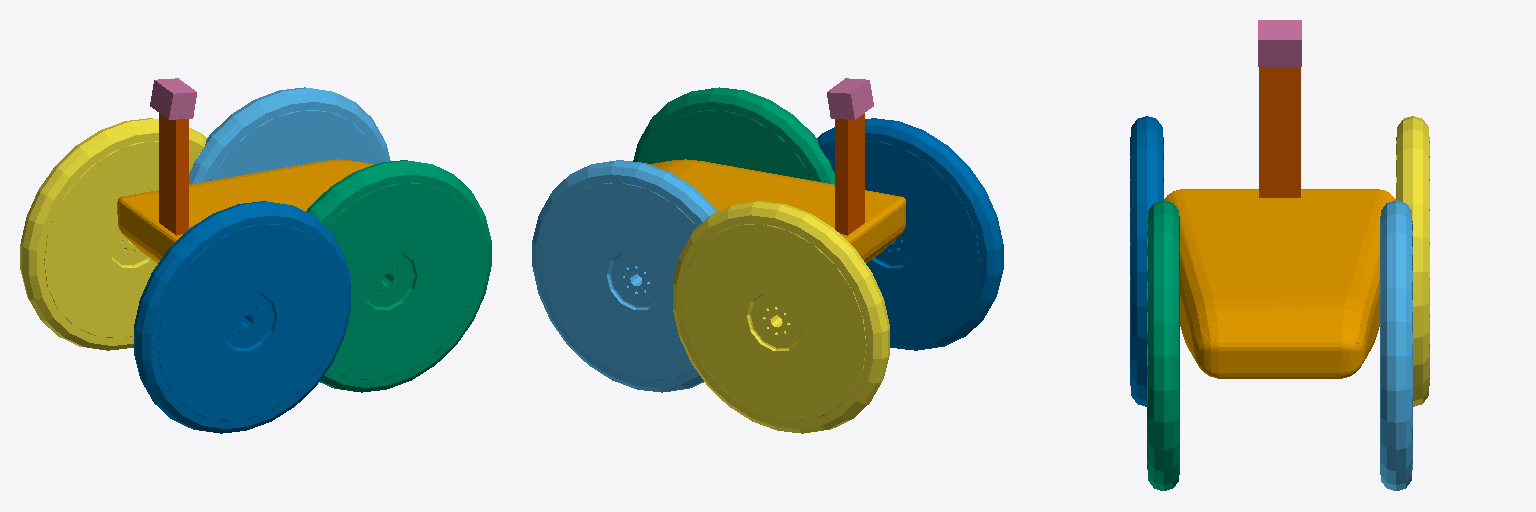
URDF robot description (DriveBot):
<?xml version="1.0"?>
<robot name="DriveBot">

  <link name="chassis">
    <visual>
      <geometry>
        <mesh filename="package://drivebot_description/urdf/Chassis.stl"/>
      </geometry>
      <origin rpy="1.5708 0 0" xyz="-0.3 0.25 0.1"/>
    </visual>
    <collision>
      <geometry>
        <mesh filename="package://drivebot_description/urdf/Chassis.stl"/>
      </geometry>
      <origin rpy="1.5708 0 0" xyz="-0.3 0.25 0.1"/>
    </collision>
    <inertial>
      <mass value="2"/>
      <inertia ixx="0.07552" ixy="0.0" ixz="0.0" iyy="0.23177" iyz="0.0" izz="0.17708"/>
      <origin rpy="1.5708 0 0" xyz="0.2 0 0"/>
    </inertial>
  </link>

  <link name="front_left">
    <visual>
      <geometry>
        <mesh filename="package://drivebot_description/urdf/RearTire.stl"/>
      </geometry>
      <origin rpy="1.5708 0 0" xyz="0 0.15 0"/>
    </visual>
    <collision>
      <geometry>
        <cylinder length="0.05" radius="0.17"/>
      </geometry>
      <origin rpy="1.5708 0 0" xyz="0 0.15 0"/>
    </collision>
    <inertial>
      <mass value="0.25"/>
      <inertia ixx="0.000602" ixy="0.0" ixz="0.0" iyy="0.001858" iyz="0.0" izz="0.001858"/>
      <origin rpy="0 0 0" xyz="0.0 0.15 0.0"/>
    </inertial>
  </link>

  <joint name="front_left_to_chassis" type="continuous">
    <axis rpy="0 0 0" xyz="0 1 0"/>
    <parent link="chassis"/>
    <child link="front_left"/>
    <origin xyz="0.4 0.2 -0.1"/>
    <limit effort="1000" velocity="1000"/>
    <dynamics damping="0.1"/>
  </joint>

  <link name="front_right">
    <visual>
      <geometry>
        <mesh filename="package://drivebot_description/urdf/RearTire.stl"/>
      </geometry>
      <origin rpy="1.5708 0 0" xyz="0 -0.15 0"/>
    </visual>
    <collision>
      <geometry>
        <cylinder length="0.05" radius="0.17"/>
      </geometry>
      <origin rpy="1.5708 0 0" xyz="0 -0.15 0"/>
    </collision>
    <inertial>
      <mass value="0.25"/>
      <inertia ixx="0.000602" ixy="0.0" ixz="0.0" iyy="0.001858" iyz="0.0" izz="0.001858"/>
      <origin rpy="0 0 0" xyz="0 -0.15 0"/>
    </inertial>
  </link>

  <joint name="front_right_to_chassis" type="continuous">
    <axis rpy="0 0 0" xyz="0 1 0"/>
    <parent link="chassis"/>
    <child link="front_right"/>
    <origin xyz="0.4 -0.2 -0.1"/>
    <limit effort="1000" velocity="1000"/>
    <dynamics damping="0.1"/>
  </joint>

  <link name="rear_left">
    <visual>
      <geometry>
        <mesh filename="package://drivebot_description/urdf/RearTire.stl"/>
      </geometry>
      <origin rpy="1.5708 0 0" xyz="0 0.05 0"/>
    </visual>
    <collision>
      <geometry>
        <cylinder length="0.05" radius="0.17"/>
      </geometry>
      <origin rpy="1.5708 0 0" xyz="0 0.05 0"/>
    </collision>
    <inertial>
      <mass value="0.25"/>
      <inertia ixx="0.000602" ixy="0.0" ixz="0.0" iyy="0.001858" iyz="0.0" izz="0.001858"/>
      <origin rpy="0 0 0" xyz="0 0.05 0"/>
    </inertial>
  </link>

  <joint name="rear_left_to_chassis" type="continuous">
    <axis rpy="0 0 0" xyz="0 1 0"/>
    <parent link="chassis"/>
    <child link="rear_left"/>
    <origin xyz="-0.2 0.35 -0.1"/>
    <limit effort="1000" velocity="1000"/>
    <dynamics damping="0.1"/>
  </joint>

  <link name="rear_right">
    <visual>
      <geometry>
        <mesh filename="package://drivebot_description/urdf/RearTire.stl"/>
      </geometry>
      <origin rpy="1.5708 0 0" xyz="0 -0.05 0"/>
    </visual>
    <collision>
      <geometry>
        <cylinder length="0.05" radius="0.17"/>
      </geometry>
      <origin rpy="1.5708 0 0" xyz="0 -0.05 0"/>
    </collision>
    <inertial>
      <mass value="0.25"/>
      <inertia ixx="0.000602" ixy="0.0" ixz="0.0" iyy="0.001858" iyz="0.0" izz="0.001858"/>
      <origin rpy="0 0 0" xyz="0 -0.05 0"/>
    </inertial>
  </link>

  <joint name="rear_right_to_chassis" type="continuous">
    <axis rpy="0 0 0" xyz="0 1 0"/>
    <parent link="chassis"/>
    <child link="rear_right"/>
    <origin xyz="-0.2 -0.35 -0.1"/>
    <limit effort="1000" velocity="1000"/>
    <dynamics damping="0.1"/>
  </joint>

  <link name="boom">
    <visual>
      <geometry>
        <box size="0.05 0.125 0.5"/>
      </geometry>
      <origin xyz="0 0 0.25"/>
    </visual>
    <collision>
      <geometry>
        <box size="0.05 0.125 0.5"/>
      </geometry>
      <origin xyz="0 0 0.25"/>
    </collision>
    <inertial>
      <mass value="0.5"/>
      <inertia ixx="0.011068" ixy="0.0" ixz="0.0" iyy="0.01052" iyz="0.0" izz="0.000755"/>
      <origin xyz="0 0 0.25"/>
    </inertial>
  </link>

  <joint name="boom_to_chassis" type="fixed">
    <parent link="chassis"/>
    <child link="boom"/>
    <origin xyz="-0.25 0 0.1"/>
  </joint>

  <link name="camera">
    <visual>
      <geometry>
        <box size="0.1 0.135 0.1"/>
      </geometry>
      <origin rpy="0 0.174533 0" xyz="0 0 0"/>
    </visual>
    <collision>
      <geometry>
        <box size="0.1 0.135 0.1"/>
      </geometry>
      <origin rpy="0 0.174533 0" xyz="0 0 0"/>
    </collision>
    <inertial>
      <mass value="0.1"/>
      <inertia ixx="0.000235" ixy="0.0" ixz="0.0" iyy="0.0001666" iyz="0.0" izz="0.000235"/>
      <origin rpy="0 0.174533 0" xyz="0 0 0"/>
    </inertial>
  </link>

  <joint name="camera_to_boom" type="fixed">
    <parent link="boom"/>
    <child link="camera"/>
    <origin xyz="0 0 0.5"/>
  </joint>

  <gazebo reference="chassis">
    <material>Gazebo/White</material>
  </gazebo>

  <gazebo reference="boom">
    <material>Gazebo/White</material>
  </gazebo>

  <gazebo reference="front_left">
    <mu1>0.80</mu1>
    <mu2>0.95</mu2>
    <kp>10000000.0</kp>
    <kd>0.0</kd>
    <material>Gazebo/Green</material>
  </gazebo>

  <gazebo reference="front_right">
    <mu1>0.80</mu1>
    <mu2>0.95</mu2>
    <kp>10000000.0</kp>
    <kd>0.0</kd>
    <material>Gazebo/Green</material>
  </gazebo>

  <gazebo reference="rear_left">
    <mu1>0.80</mu1>
    <mu2>0.95</mu2>
    <kp>10000000.0</kp>
    <kd>0.0</kd>
    <material>Gazebo/Green</material>
  </gazebo>

  <gazebo reference="rear_right">
    <mu1>0.80</mu1>
    <mu2>0.95</mu2>
    <kp>10000000.0</kp>
    <kd>0.0</kd>
    <material>Gazebo/Green</material>
  </gazebo>

  <gazebo reference="camera">
    <material>Gazebo/Red</material>
    <sensor type="camera" name="camera1">
      <update_rate>30.0</update_rate>
      <camera name="camera">
        <horizontal_fov>1.3962634</horizontal_fov>
        <image>
          <width>800</width>
          <height>800</height>
          <format>R8G8B8</format>
        </image>
        <clip>
          <near>0.02</near>
          <far>300</far>
        </clip>
        <noise>
          <type>gaussian</type>
          <!-- Noise is sampled independently per pixel on each frame.
               That pixel's noise value is added to each of its color
               channels, which at that point lie in the range [0,1].-->
          <mean>0.0</mean>
          <stddev>0.007</stddev>
        </noise>
      </camera>
      <plugin name="camera_controller" filename="libgazebo_ros_camera.so">
        <alwaysOn>true</alwaysOn>
        <updateRate>0.0</updateRate>
        <cameraName>drivebot/camera1</cameraName>
        <imageTopicName>image_raw</imageTopicName>
        <cameraInfoTopicName>camera_info</cameraInfoTopicName>
        <frameName>camera_link</frameName>
        <hackBaseline>0.07</hackBaseline>
        <distortionK1>0.0</distortionK1>
        <distortionK2>0.0</distortionK2>
        <distortionK3>0.0</distortionK3>
        <distortionT1>0.0</distortionT1>
        <distortionT2>0.0</distortionT2>
      </plugin>
    </sensor>
  </gazebo>

  <gazebo>
    <plugin name="front_axle_differential_drive_controller" filename="libgazebo_ros_diff_drive.so">
      <legacyMode>false</legacyMode>
      <alwaysOn>true</alwaysOn>
      <updateRate>100</updateRate>
      <leftJoint>front_left_to_chassis</leftJoint>
      <rightJoint>front_right_to_chassis</rightJoint>
      <wheelSeparation>0.5</wheelSeparation>
      <wheelDiameter>0.25</wheelDiameter>
      <torque>75</torque>
      <commandTopic>cmd_vel</commandTopic>
      <odometryTopic>odom</odometryTopic>
      <odometryFrame>odom</odometryFrame>
      <robotBaseFrame>chassis</robotBaseFrame>
    </plugin>
  </gazebo>

  <gazebo>
    <plugin name="rear_axle_differential_drive_controller" filename="libgazebo_ros_diff_drive.so">
      <legacyMode>false</legacyMode>
      <alwaysOn>true</alwaysOn>
      <updateRate>100</updateRate>
      <leftJoint>rear_left_to_chassis</leftJoint>
      <rightJoint>rear_right_to_chassis</rightJoint>
      <wheelSeparation>0.75</wheelSeparation>
      <wheelDiameter>0.25</wheelDiameter>
      <torque>75</torque>
      <commandTopic>cmd_vel</commandTopic>
      <odometryTopic>odom</odometryTopic>
      <odometryFrame>odom</odometryFrame>
      <robotBaseFrame>chassis</robotBaseFrame>
    </plugin>
  </gazebo>

</robot>

--- Facts derived from the render (not from the file) ---
Views: 3 orthographic renders of the robot side by side, from view 1: azimuth 30°, elevation 25°; view 2: azimuth 150°, elevation 25°; view 3: azimuth 270°, elevation 25°.
Robot: DriveBot — 7 links, 6 joints (4 continuous, 2 fixed); root link chassis; default pose: every joint at zero.
Visible links, largest first — view 1: rear_right, front_right, rear_left, front_left, chassis, boom, camera; view 2: rear_left, front_left, rear_right, front_right, chassis, boom, camera; view 3: chassis, front_left, front_right, rear_right, rear_left, boom, camera.
Boxes of the visible links, left/top/right/bottom form: rear_right: left=134, top=201, right=350, bottom=433; front_right: left=306, top=160, right=491, bottom=392; rear_left: left=20, top=118, right=206, bottom=350; front_left: left=189, top=87, right=390, bottom=184; chassis: left=117, top=159, right=373, bottom=263; boom: left=159, top=113, right=188, bottom=235; camera: left=150, top=78, right=196, bottom=119; rear_left: left=673, top=201, right=889, bottom=433; front_left: left=532, top=160, right=717, bottom=392; rear_right: left=817, top=118, right=1003, bottom=350; front_right: left=633, top=87, right=834, bottom=184; chassis: left=650, top=159, right=905, bottom=263; boom: left=835, top=113, right=864, bottom=235; camera: left=827, top=78, right=873, bottom=119; chassis: left=1164, top=189, right=1395, bottom=378; front_left: left=1380, top=200, right=1412, bottom=490; front_right: left=1147, top=200, right=1179, bottom=490; rear_right: left=1130, top=116, right=1163, bottom=406; rear_left: left=1396, top=116, right=1429, bottom=406; boom: left=1259, top=67, right=1300, bottom=197; camera: left=1258, top=20, right=1301, bottom=66.
Size in the robot's own frame: 1.47 by 0.9 by 1.2 metres.
5 mesh visuals loaded from 2 distinct referenced files (2 binary STL).